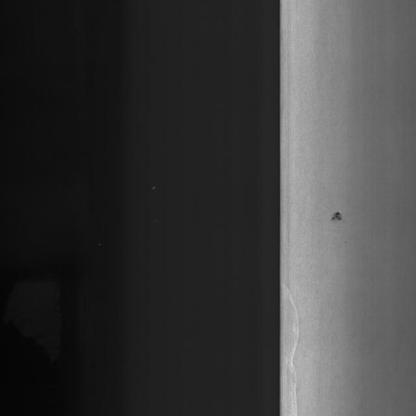inclusion: (328, 208, 347, 231)
water_spot: (281, 266, 305, 416)
